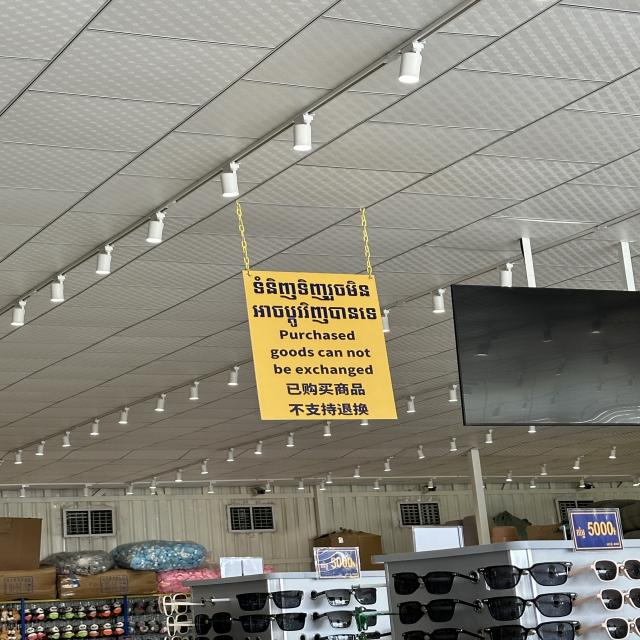Yolov11kh: (245, 274, 375, 302), (249, 301, 380, 326)
